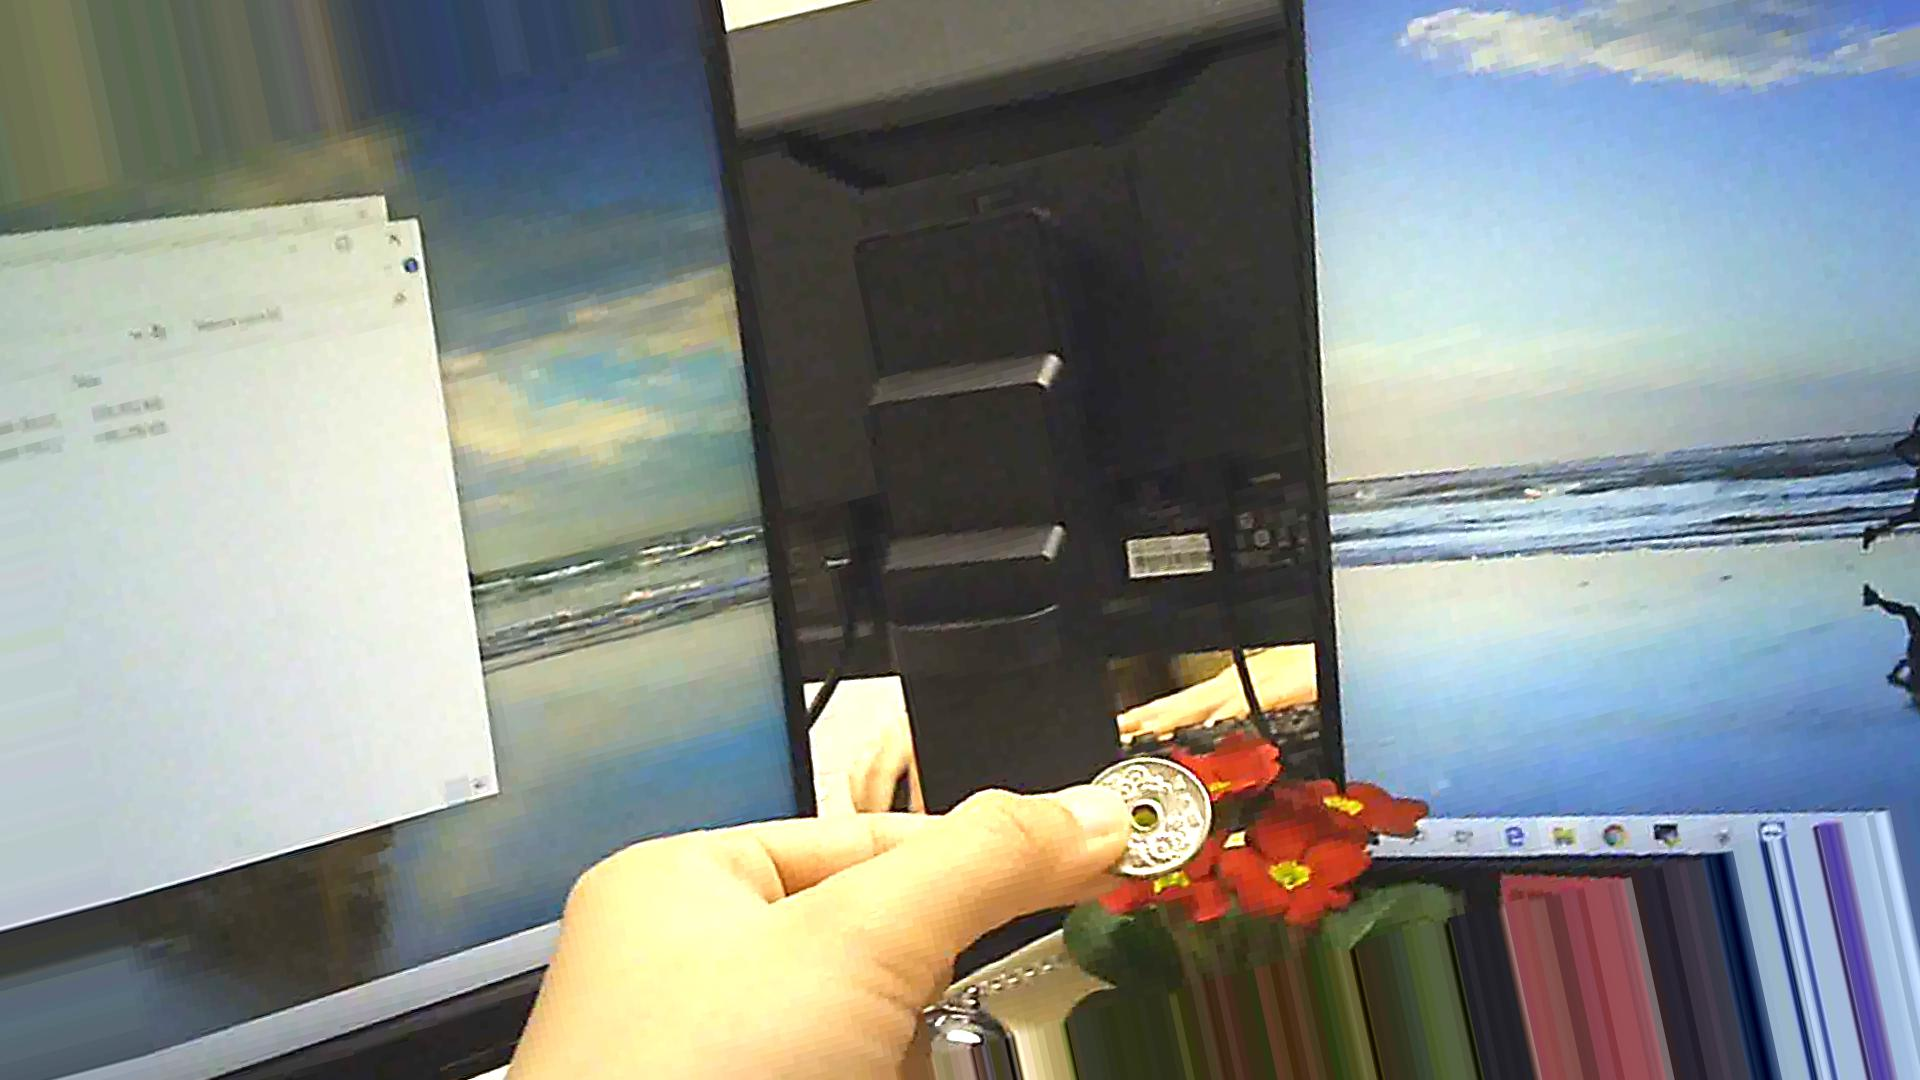50 Yen: (1069, 752, 1215, 876)
